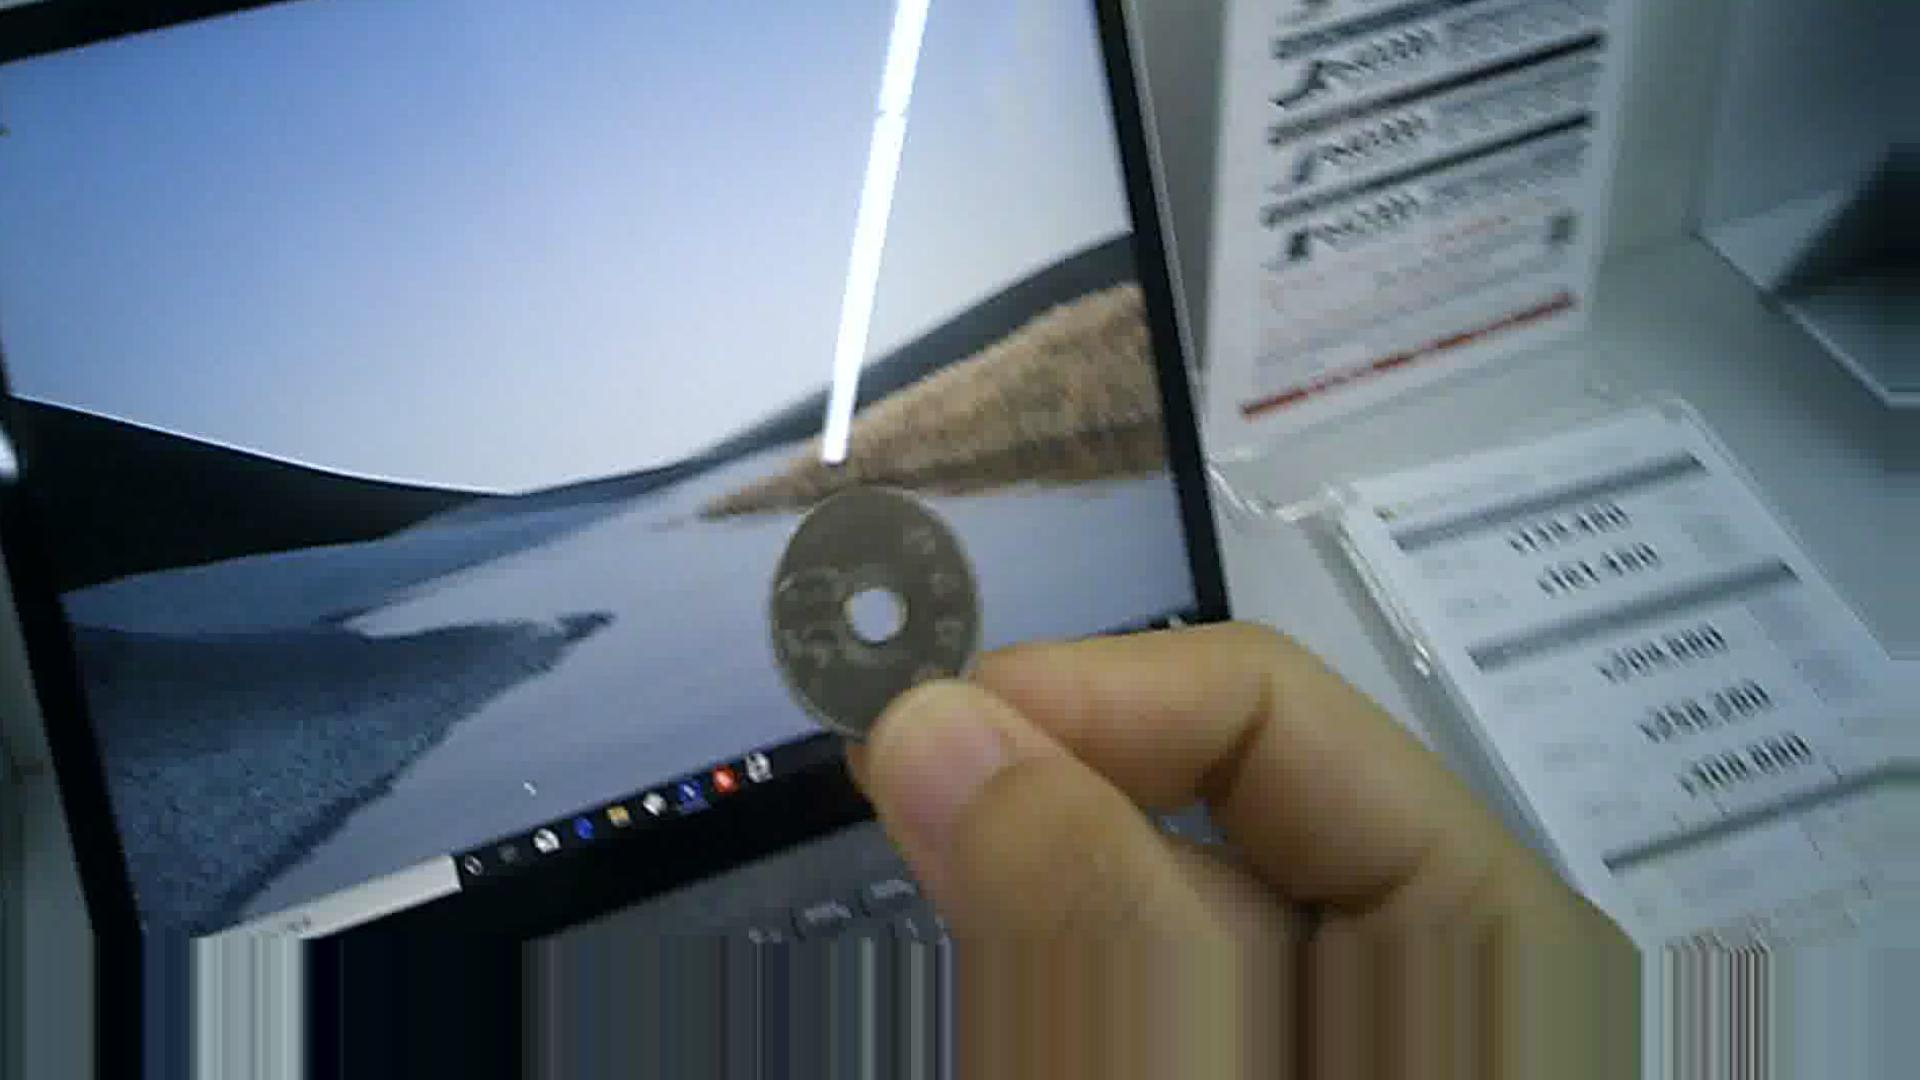50 Yen: (756, 498, 1021, 748)
